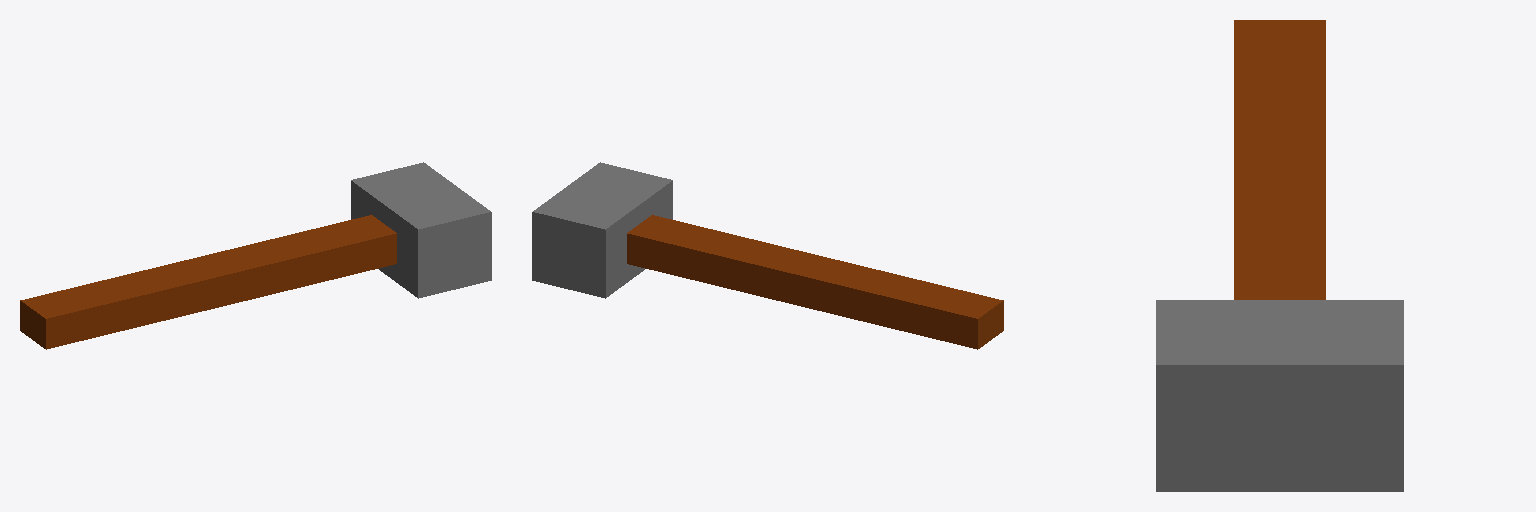
URDF robot description (cuboidal_hammer):
<?xml version="1.0"?>
<robot name="cuboidal_hammer">

  <link name="hammer">
    <!-- Handle -->
    <visual>
      <origin xyz="0 0 0" rpy="0 0 0"/>
      <geometry>
        <box size="0.24 0.03 0.02"/>
      </geometry>
      <material name="brown">
        <color rgba="0.55 0.27 0.07 1.0"/>
      </material>
    </visual>
    <collision>
      <origin xyz="0 0 0" rpy="0 0 0"/>
      <geometry>
        <box size="0.24 0.03 0.02"/>
      </geometry>
    </collision>

    <!-- Head -->
    <visual>
      <origin xyz="0.145 0 0" rpy="0 0 0"/>
      <geometry>
        <box size="0.05 0.08 0.045"/>
      </geometry>
      <material name="gray">
        <color rgba="0.5 0.5 0.5 1.0"/>
      </material>
    </visual>
    <collision>
      <origin xyz="0.145 0 0" rpy="0 0 0"/>
      <geometry>
        <box size="0.05 0.08 0.045"/>
      </geometry>
    </collision>

    <inertial>
      <density value="400"/>
    </inertial>
  </link>

</robot>

--- Render facts (derived) ---
3 views of the same robot in one strip: view 1: azimuth 30°, elevation 25°; view 2: azimuth 150°, elevation 25°; view 3: azimuth 270°, elevation 25° (orthographic).
Model cuboidal_hammer with 1 links and 0 joints (none), rooted at hammer, posed every joint at zero.
Links seen in each view (by area): view 1: hammer; view 2: hammer; view 3: hammer.
Link boxes in pixels (bbox=[...]): hammer: bbox=[20, 162, 491, 349]; hammer: bbox=[532, 162, 1003, 349]; hammer: bbox=[1156, 20, 1403, 491].
Size in the robot's own frame: 0.29 by 0.08 by 0.045 metres.
Geometry: primitives only (box / cylinder / sphere), no mesh files.
